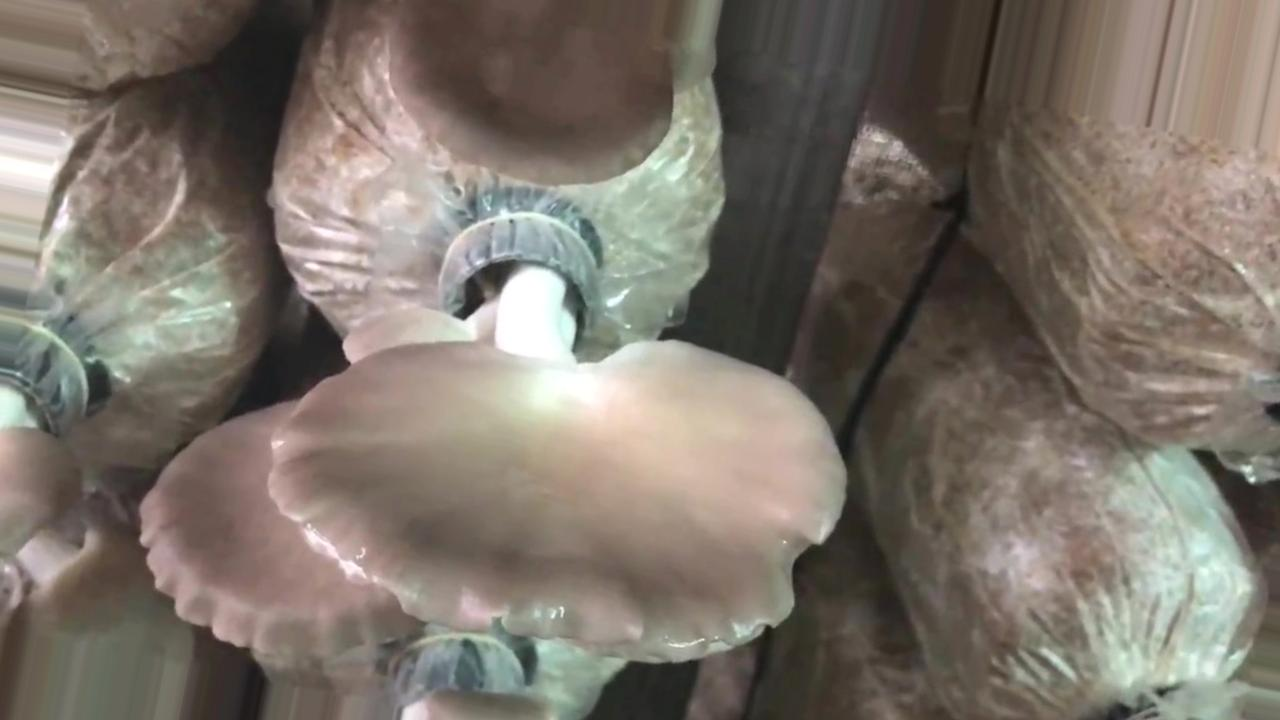nam: (270, 198, 848, 666), (135, 398, 425, 657), (395, 49, 675, 184), (1, 314, 92, 552)
